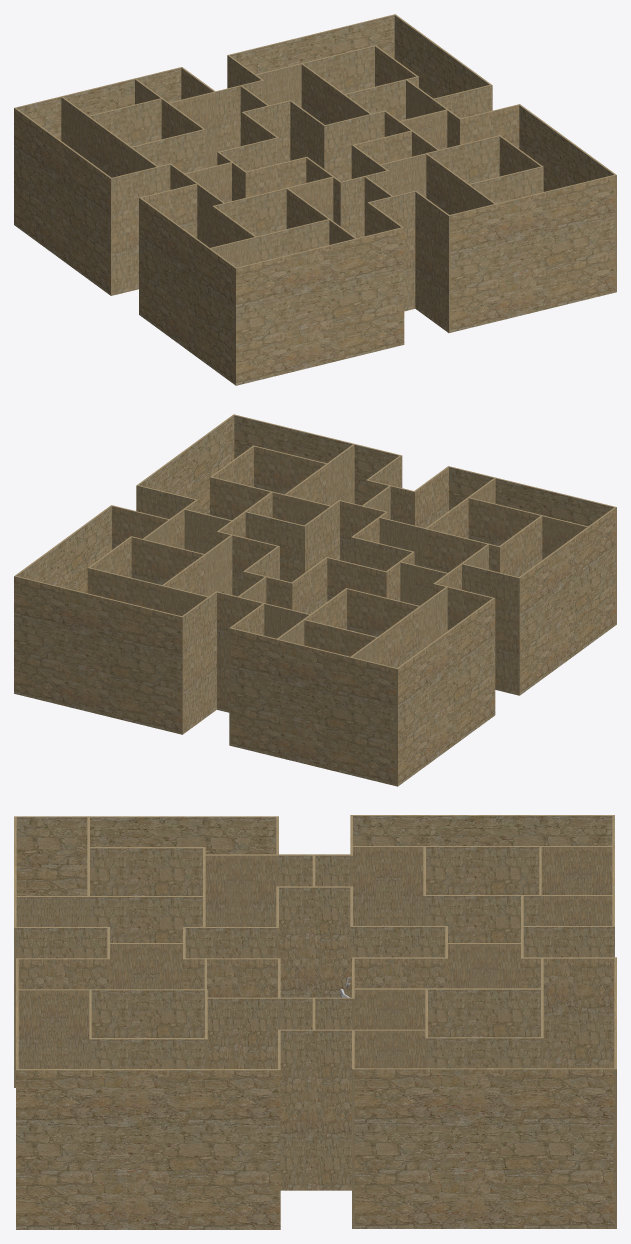
File: level5.obj
The picture shows the model from 3 angles, top to bottom: view 1: azimuth 30°, elevation 25°; view 2: azimuth 150°, elevation 25°; view 3: azimuth 270°, elevation 25°; orthographic projection. The views are drawn at different scales.
Visible parts, largest first — view 1: Cube.078_Cube.089, Cube.083_Cube.094, Cube.072_Cube.083, Cube.077_Cube.088, Cube.090_Cube.101, Cube.088_Cube.099, Cube.073_Cube.084, Cube.084_Cube.095, Cube.071_Cube.082, Cube.089_Cube.100, Cube.093_Cube.104, Cube.104_Cube.115 (+43 smaller); view 2: Cube.090_Cube.101, Cube.071_Cube.082, Cube.072_Cube.083, Cube.077_Cube.088, Cube.083_Cube.094, Cube.078_Cube.089, Cube.095_Cube.106, Cube.082_Cube.093, Cube.084_Cube.095, Cube.089_Cube.100, Cube.086_Cube.097, Cube.117_Cube.128 (+42 smaller); view 3: Cube.084_Cube.095, Cube.089_Cube.100, Cube.077_Cube.088, Cube.101_Cube.112, Cube.095_Cube.106, Cube.072_Cube.083, Cube.103_Cube.114, Cube.119_Cube.130, Cube.107_Cube.118, Cube.115_Cube.126, Cube.111_Cube.122, Cube.254_Cube.266 (+46 smaller).
Boxes of the visible parts, x1,y1,x2,y2 form: Cube.078_Cube.089: [235, 227, 404, 385]; Cube.083_Cube.094: [450, 175, 615, 332]; Cube.072_Cube.083: [14, 107, 112, 295]; Cube.077_Cube.088: [140, 198, 236, 384]; Cube.090_Cube.101: [227, 14, 395, 88]; Cube.088_Cube.099: [415, 190, 450, 332]; Cube.073_Cube.084: [112, 163, 171, 295]; Cube.084_Cube.095: [518, 104, 616, 292]; Cube.071_Cube.082: [16, 67, 181, 140]; Cube.089_Cube.100: [394, 15, 491, 98]; Cube.093_Cube.104: [323, 110, 385, 181]; Cube.104_Cube.115: [87, 98, 162, 160]; Cube.090_Cube.101: [14, 575, 183, 734]; Cube.071_Cube.082: [231, 628, 396, 785]; Cube.072_Cube.083: [396, 597, 495, 786]; Cube.077_Cube.088: [519, 507, 615, 694]; Cube.083_Cube.094: [234, 414, 399, 505]; Cube.078_Cube.089: [448, 466, 616, 624]; Cube.095_Cube.106: [182, 591, 217, 733]; Cube.082_Cube.093: [461, 563, 520, 695]; Cube.084_Cube.095: [136, 414, 234, 514]; Cube.089_Cube.100: [15, 506, 111, 593]; Cube.086_Cube.097: [244, 511, 303, 582]; Cube.117_Cube.128: [130, 536, 206, 595]; Cube.084_Cube.095: [16, 1069, 280, 1229]; Cube.089_Cube.100: [354, 1068, 614, 1228]; Cube.077_Cube.088: [16, 816, 276, 895]; Cube.101_Cube.112: [280, 1029, 351, 1190]; Cube.095_Cube.106: [521, 957, 614, 1068]; Cube.072_Cube.083: [350, 815, 614, 845]; Cube.103_Cube.114: [279, 886, 350, 997]; Cube.119_Cube.130: [428, 988, 540, 1037]; Cube.107_Cube.118: [426, 846, 539, 894]; Cube.115_Cube.126: [91, 989, 204, 1037]; Cube.111_Cube.122: [90, 847, 202, 895]; Cube.254_Cube.266: [207, 997, 277, 1068].
Bounding box in the file's own units: 69.69 × 20.35 × 69.6.
